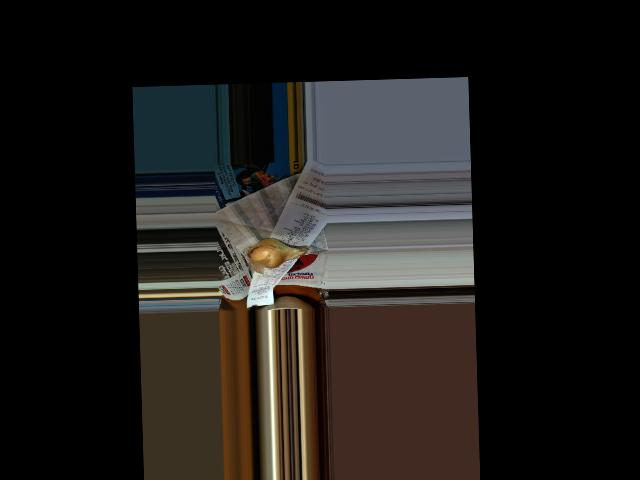onion: (248, 234, 304, 267)
